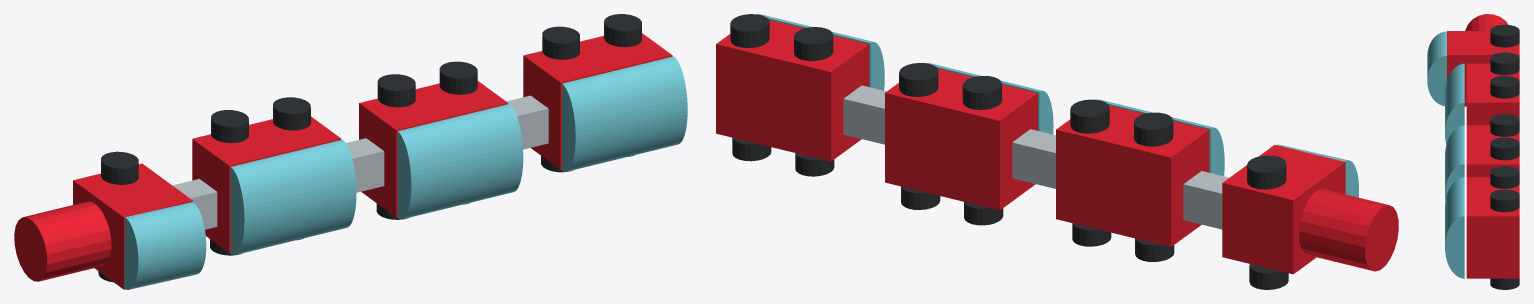
File: tinker.obj
3 renders of one model, left to right at view 1: azimuth 30°, elevation 25°; view 2: azimuth 150°, elevation 25°; view 3: azimuth 270°, elevation 25°, orthographic. The views are drawn at different scales.
Parts seen in each view (by area): view 1: group_0_7720667, group_0_15277357, group_0_2829873, group_0_12568524; view 2: group_0_15277357, group_0_2829873, group_0_12568524, group_0_7720667; view 3: group_0_15277357, group_0_7720667, group_0_2829873.
Part boxes in pixels (box(x1,y1,x2,y2)): group_0_7720667: box(124, 56, 687, 289); group_0_15277357: box(14, 33, 672, 289); group_0_2829873: box(98, 14, 641, 282); group_0_12568524: box(172, 95, 548, 229); group_0_15277357: box(716, 20, 1398, 274); group_0_2829873: box(730, 14, 1288, 289); group_0_12568524: box(843, 85, 1228, 229); group_0_7720667: box(757, 14, 1358, 197); group_0_15277357: box(1447, 14, 1519, 278); group_0_7720667: box(1427, 31, 1464, 278); group_0_2829873: box(1490, 24, 1519, 289).
Size of the model in its own units: 263 by 54.51 by 47.
